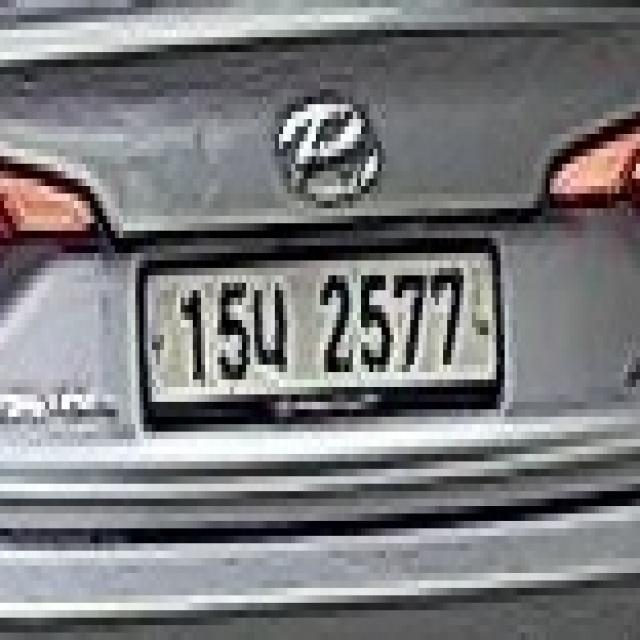1: (176, 268, 214, 394)
2: (316, 260, 357, 394)
5: (213, 268, 254, 394), (357, 260, 390, 387)
7: (431, 253, 476, 387), (390, 260, 431, 387)
license_plate: (131, 223, 513, 447)
na: (254, 260, 300, 402)
